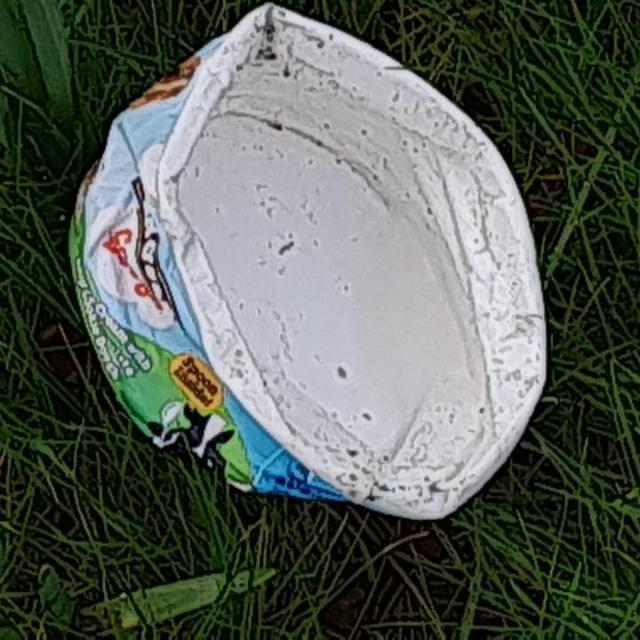Paper: (61, 2, 552, 527)
